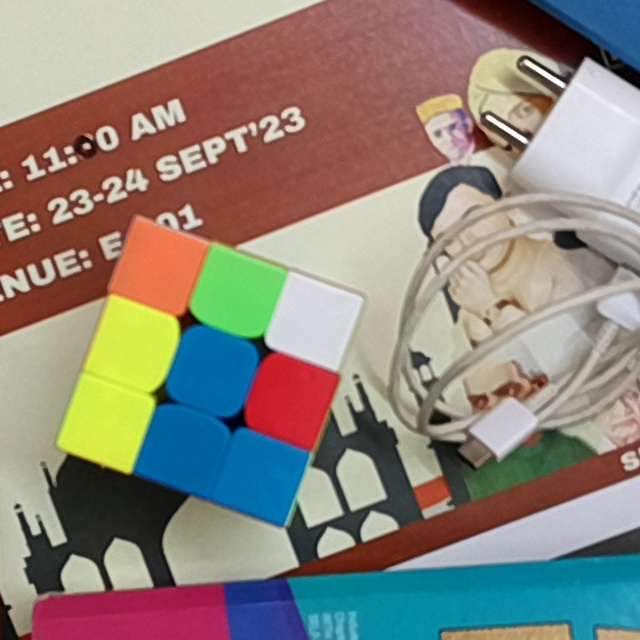tile: (182, 342, 243, 401), (130, 238, 188, 297), (284, 292, 346, 347), (206, 266, 266, 322), (263, 369, 319, 429), (106, 315, 165, 371), (153, 424, 211, 480), (233, 449, 292, 504), (77, 396, 133, 450)
